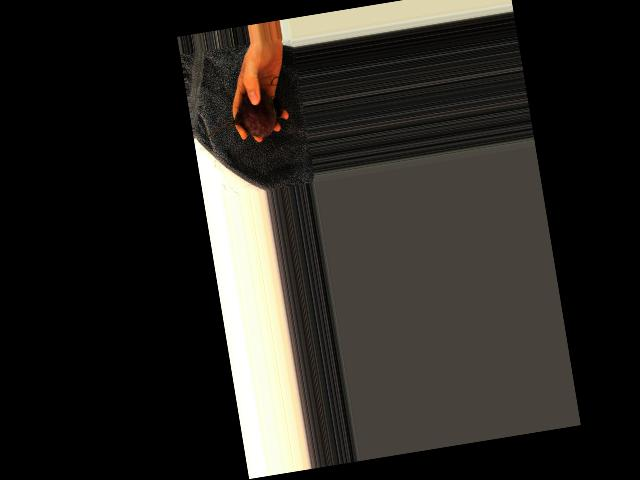beet: (200, 86, 285, 146)
